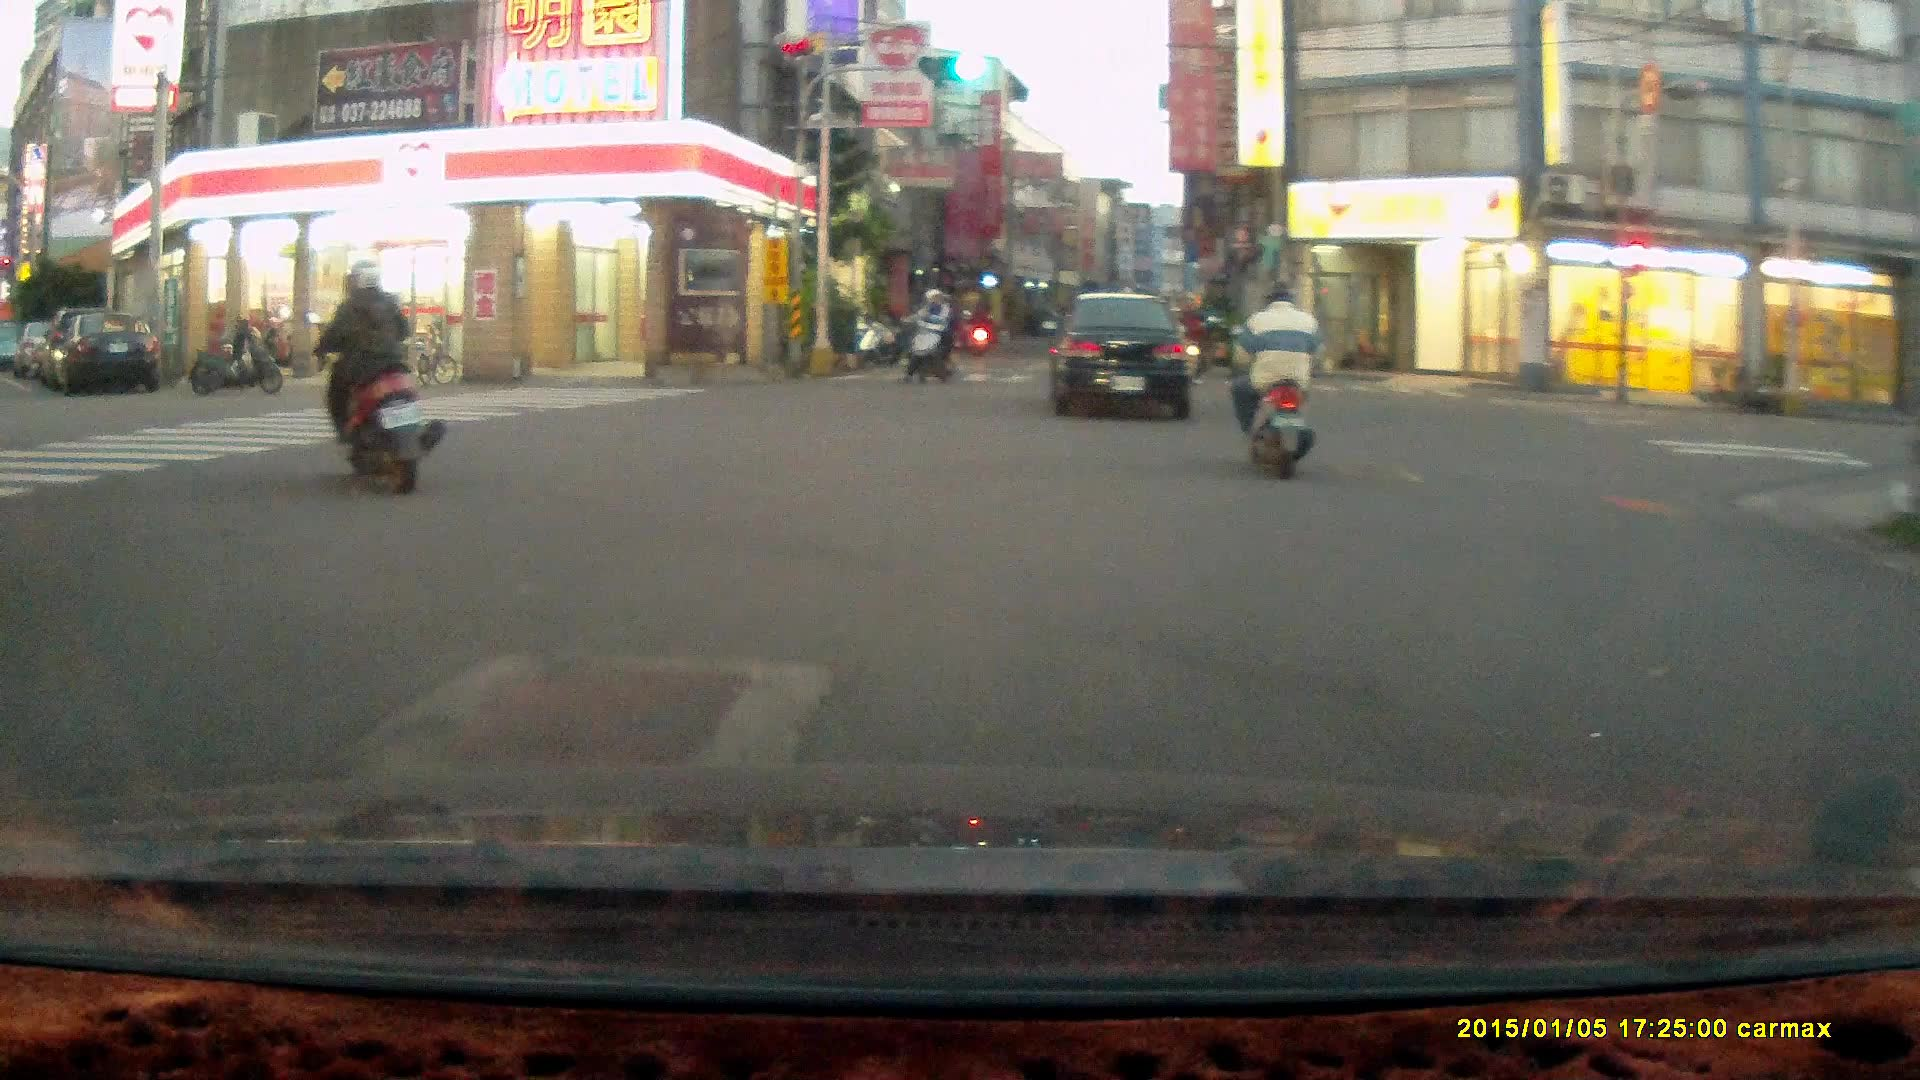rider: (303, 262, 447, 498), (1231, 280, 1321, 482), (898, 286, 956, 387), (1171, 294, 1207, 375)
vehicle: (1051, 291, 1197, 424), (66, 309, 167, 393)
